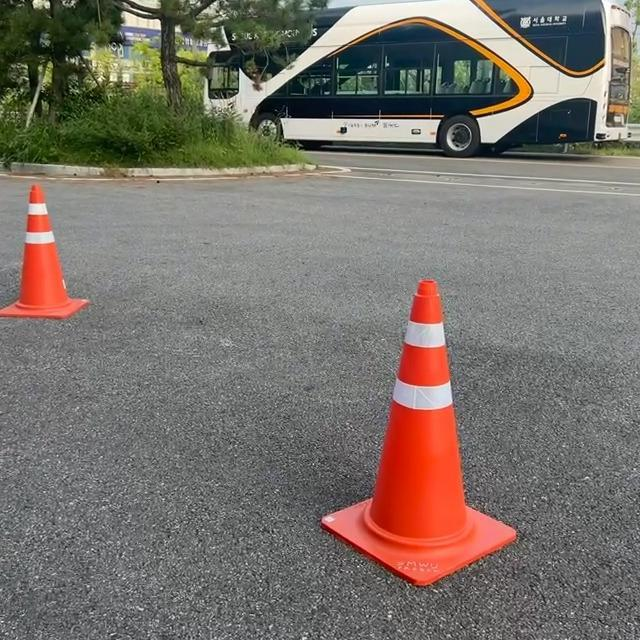fallen_object: (209, 233, 577, 640), (0, 136, 133, 371)
